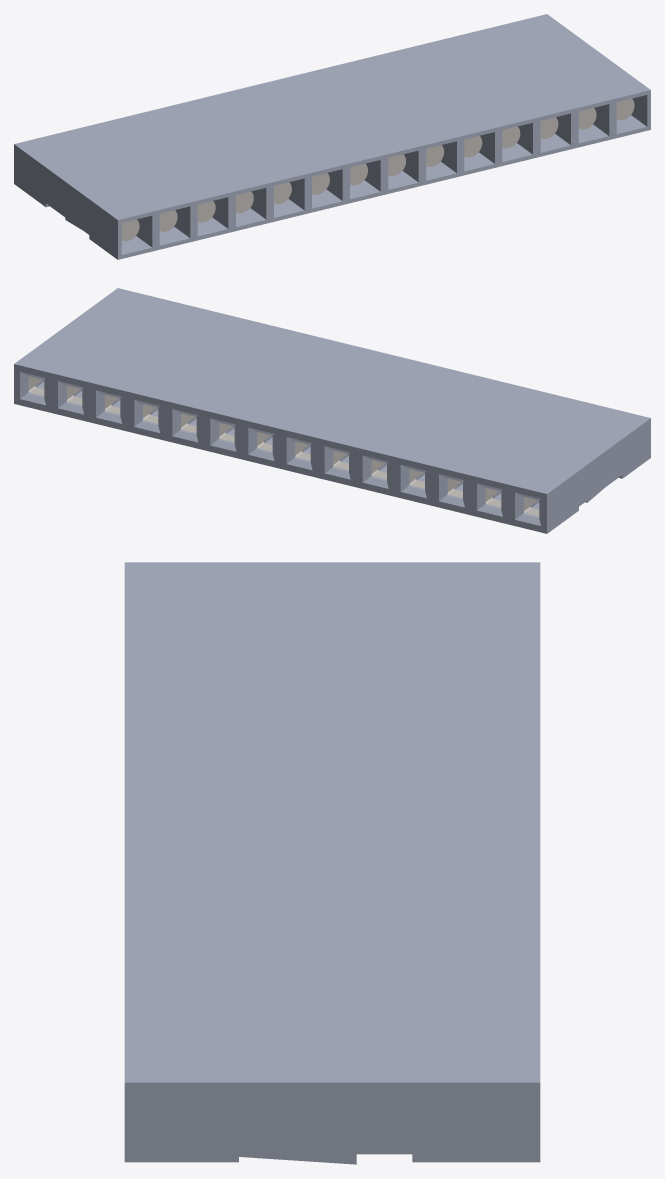
3 renders of one model, top to bottom at view 1: azimuth 30°, elevation 25°; view 2: azimuth 150°, elevation 25°; view 3: azimuth 270°, elevation 25°, orthographic. The views are drawn at different scales.
Parts seen in each view (by area): view 1: DS1071-1x14; view 2: DS1071-1x14; view 3: DS1071-1x14.
Boxes of the visible parts, x1,y1,x2,y2 form: DS1071-1x14: [14, 14, 650, 259]; DS1071-1x14: [14, 288, 650, 533]; DS1071-1x14: [124, 562, 540, 1164].
Size of the model in its own units: 0.0128 by 0.000999 by 0.00431.
